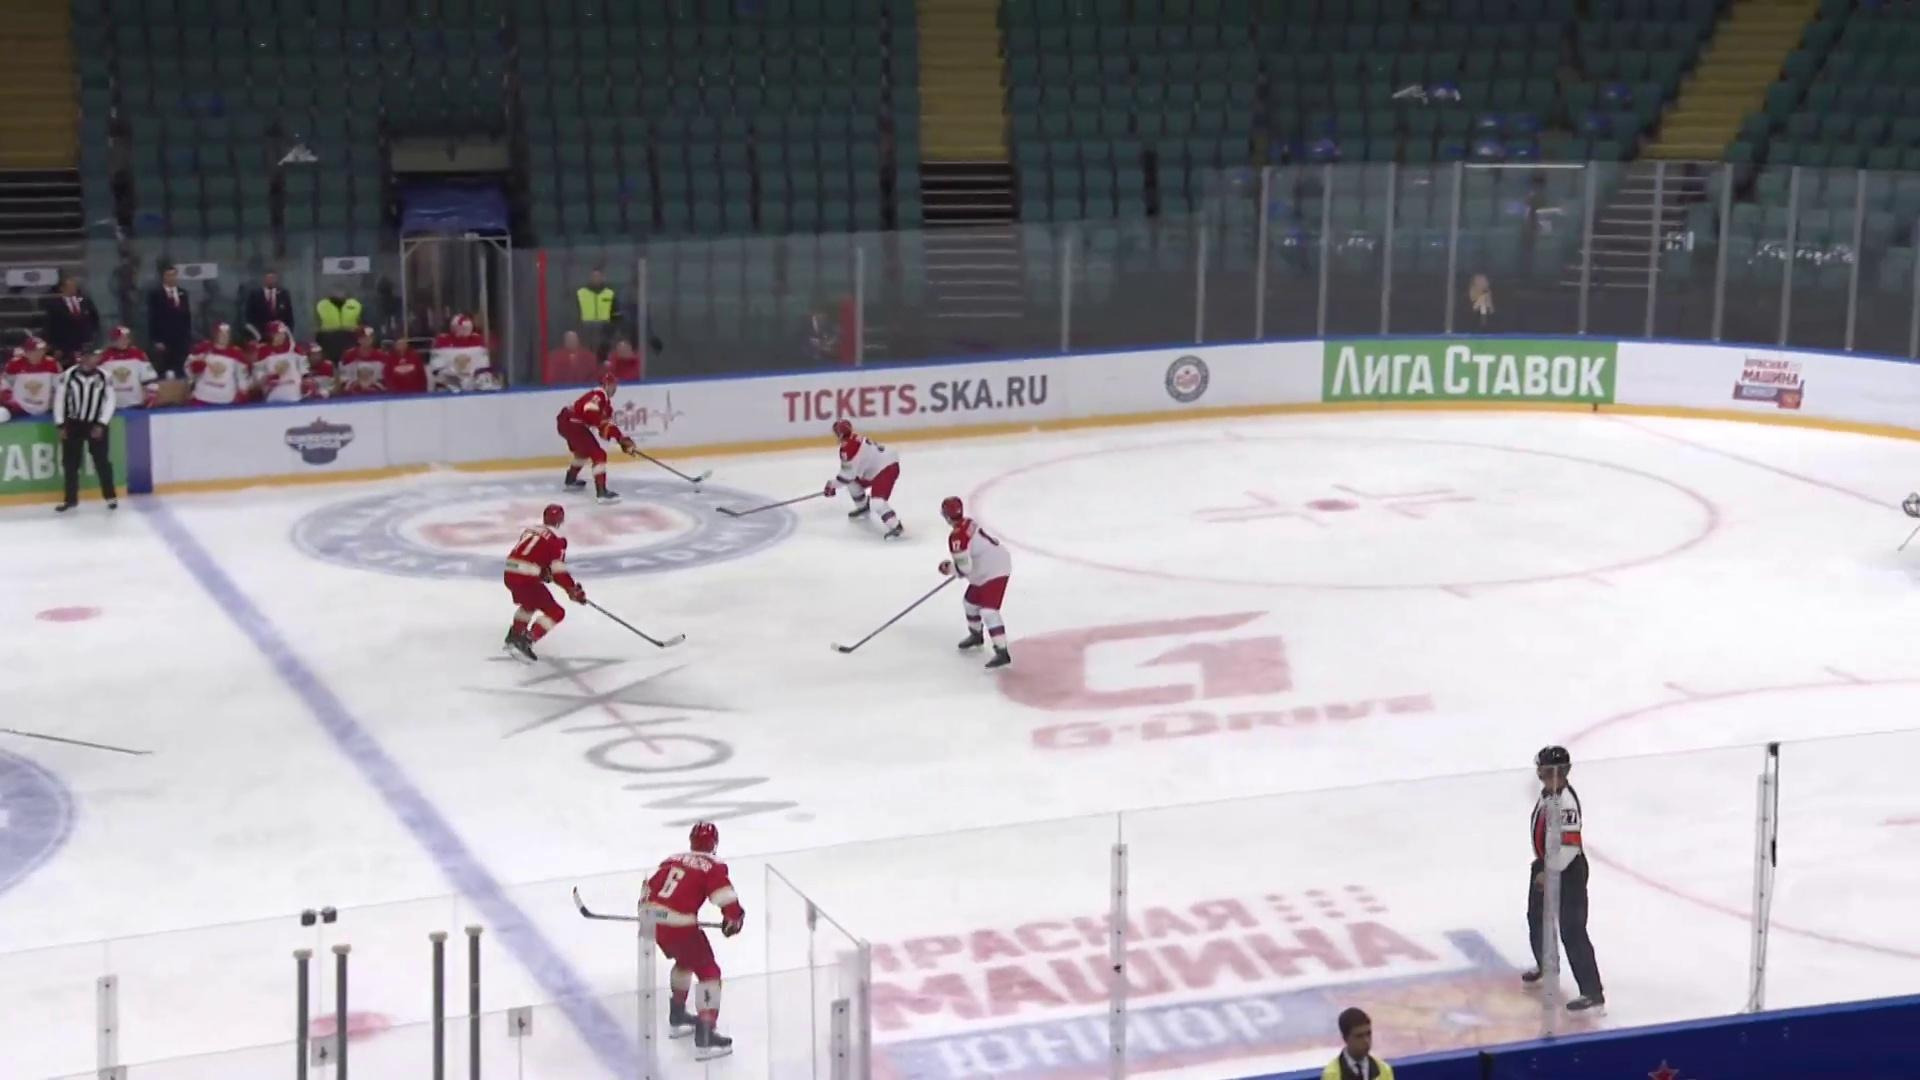ball: (692, 488, 704, 495)
